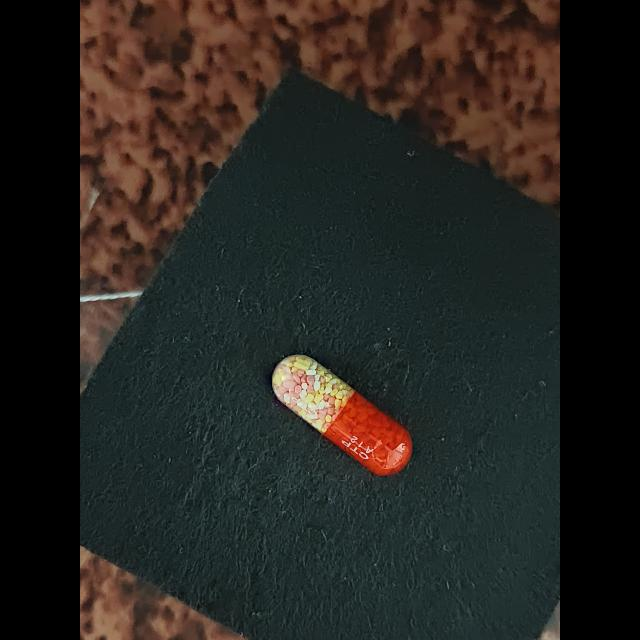Intact Capsule: (272, 354, 413, 476)
